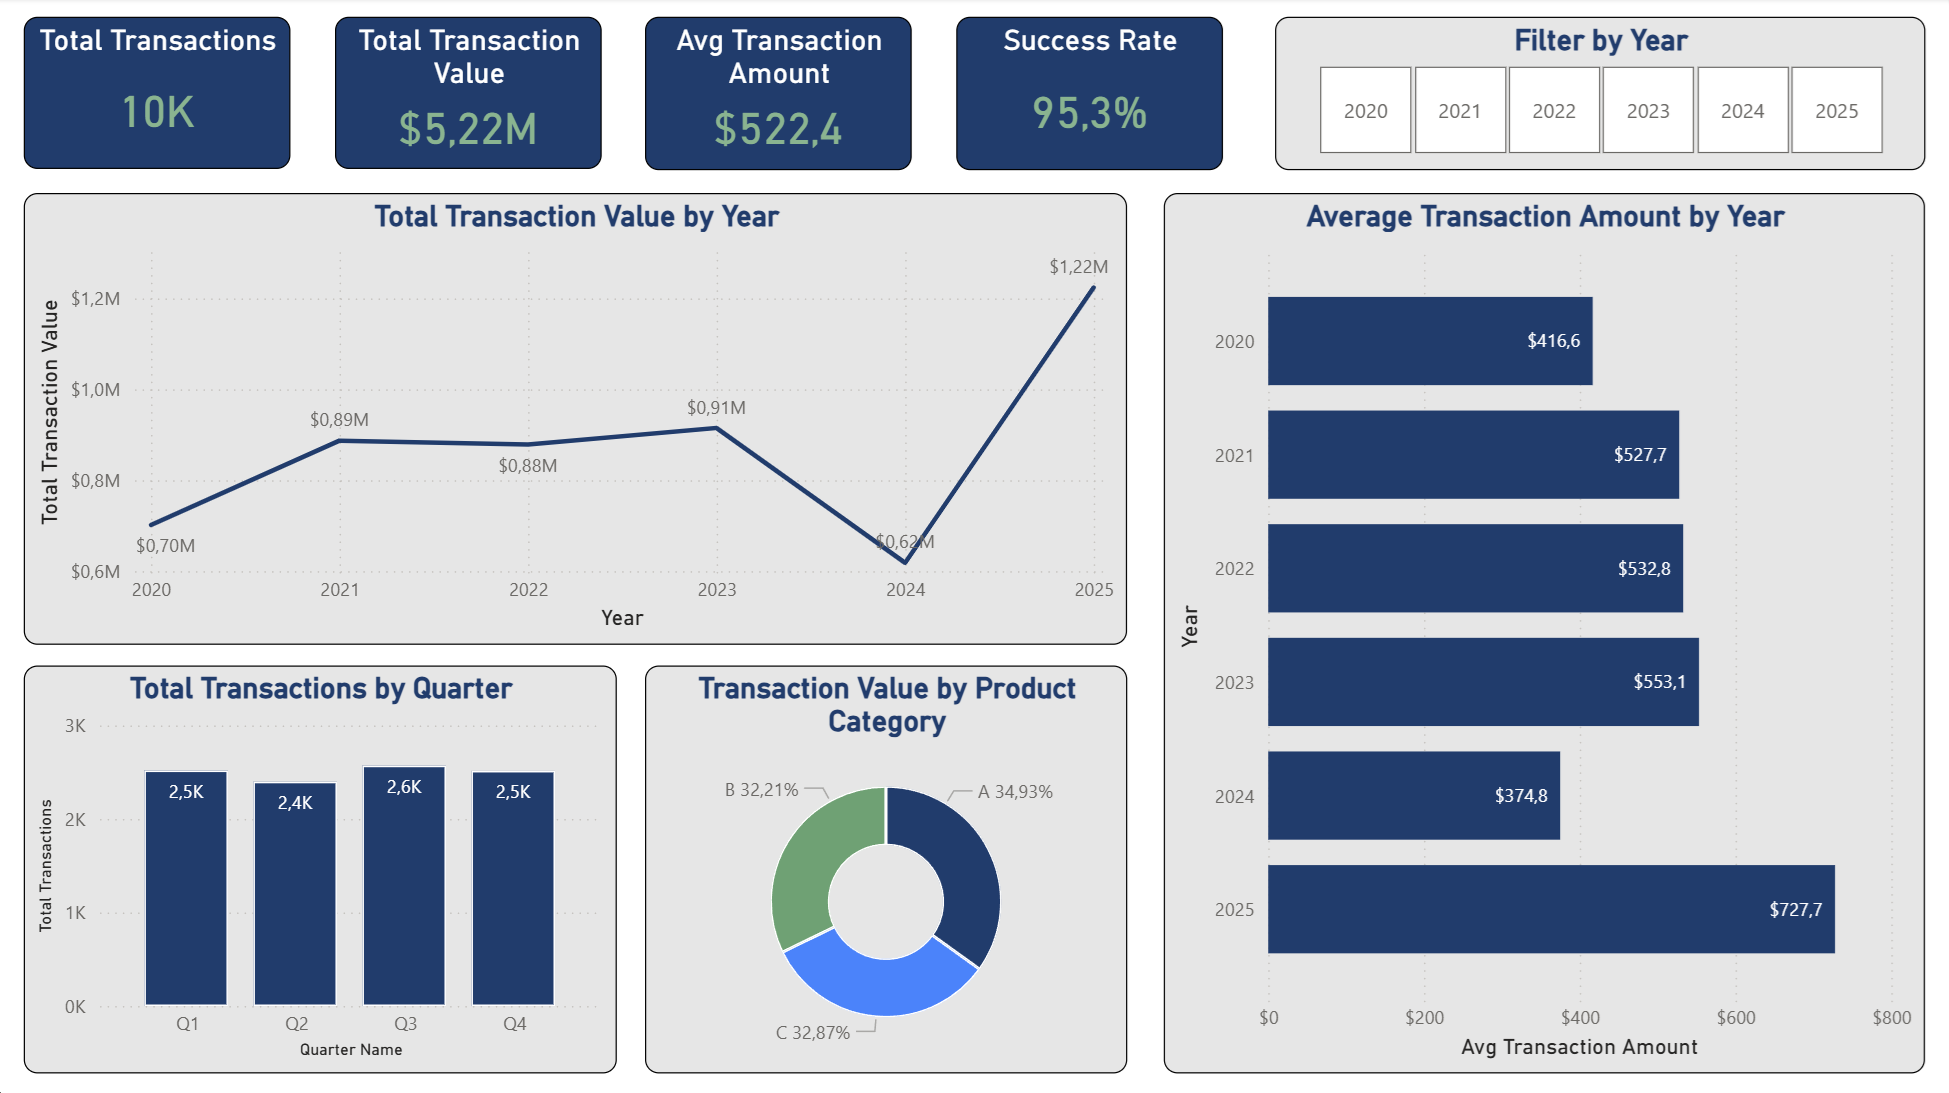

This screenshot's page, from the dashboard's own definition file:
{"tool":"powerbi","page":{"name":"Transaction Performance Overview","canvas":[1280,720],"ordinal":0},"visuals":[{"type":"card","title":"Total Transactions","fields":{"Values":["MeasureTable.Total Transactions"]},"box":[15.6,12.6,175,100.2],"z":0},{"type":"card","title":"Total Transaction Value","fields":{"Values":["MeasureTable.Total Transaction Value"]},"box":[219.7,12.7,175,100],"z":1000},{"type":"card","title":"Avg Transaction Amount","fields":{"Values":["MeasureTable.Avg Transaction Amount"]},"box":[423.9,12.2,175.1,100.8],"z":2000},{"type":"card","title":"Success Rate","fields":{"Values":["MeasureTable.Success Rate"]},"box":[628.2,12.2,175.1,100.8],"z":3000},{"type":"lineChart","fields":{"Category":["DimCalendar.Year"],"Y":["MeasureTable.Total Transaction Value"]},"box":[15.6,128.1,725.1,296.4],"z":4000},{"type":"columnChart","title":"Total Transactions by Quarter","fields":{"Y":["MeasureTable.Total Transactions"],"Category":["DimCalendar.Quarter Name"]},"box":[15.6,438.5,389.2,267.7],"z":5000},{"type":"slicer","title":"Filter by Year","fields":{"Values":["DimCalendar.Year"]},"box":[837.6,12.3,427,101],"z":6000},{"type":"donutChart","title":"Transaction Value by Product Category","fields":{"Category":["DimProductCategory.ProductCategoryName"],"Y":["MeasureTable.Total Transaction Value"]},"box":[423.7,438.5,317,267.7],"z":7000},{"type":"clusteredBarChart","title":"Average Transaction Amount by Year","fields":{"Y":["MeasureTable.Avg Transaction Amount"],"Category":["DimCalendar.Year"]},"box":[764.5,128.1,500.1,578.1],"z":8000}]}

Visuals, with their boxes in screenshot pixels (x1, y1, x2, y2), scaled from the page's 1280x720 canvas onto the 1949x1093 screenshot:
"Total Transactions" card: (left=24, top=19, right=290, bottom=171)
"Total Transaction Value" card: (left=335, top=19, right=601, bottom=171)
"Avg Transaction Amount" card: (left=645, top=19, right=912, bottom=172)
"Success Rate" card: (left=957, top=19, right=1223, bottom=172)
lineChart - DimCalendar.Year x MeasureTable.Total Transaction Value: (left=24, top=194, right=1128, bottom=644)
"Total Transactions by Quarter" columnChart: (left=24, top=666, right=616, bottom=1072)
"Filter by Year" slicer: (left=1275, top=19, right=1926, bottom=172)
"Transaction Value by Product Category" donutChart: (left=645, top=666, right=1128, bottom=1072)
"Average Transaction Amount by Year" clusteredBarChart: (left=1164, top=194, right=1926, bottom=1072)
